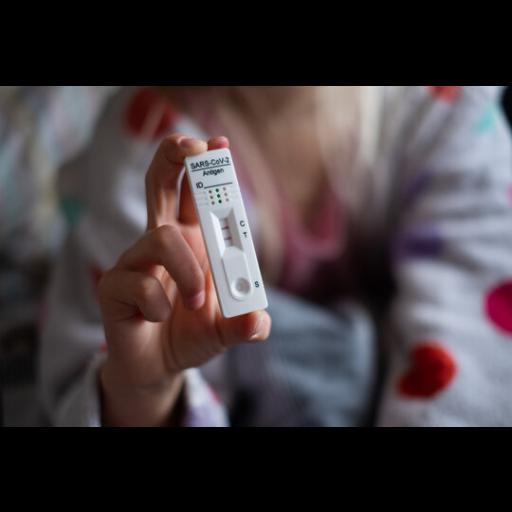Pos: (185, 147, 270, 317)
